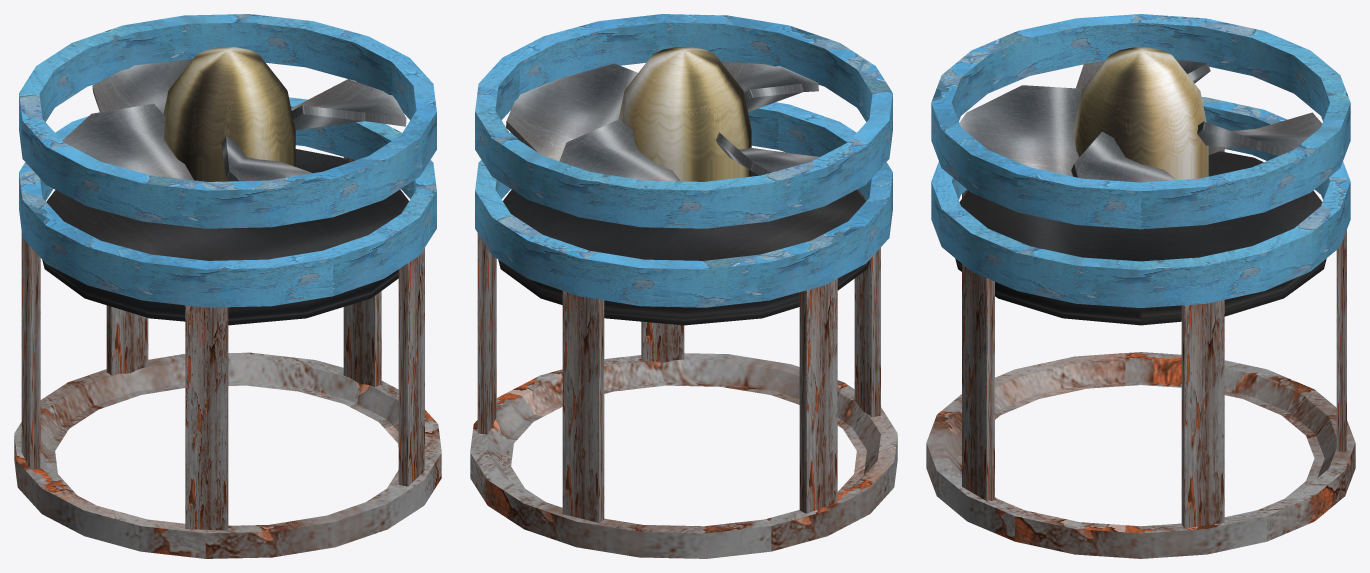
File: static.fbx
The picture shows the model from 3 angles, left to right: view 1: azimuth 30°, elevation 25°; view 2: azimuth 150°, elevation 25°; view 3: azimuth 270°, elevation 25°; orthographic projection.
Visible parts, largest first — view 1: Tube, Disc, Tube_2, Cylinder, Cylinder_2, Cube_4, Cube_3, Subdivision_Surface_4, Cube_5, Subdivision_Surface_2, Subdivision_Surface, Cube_2 (+2 smaller); view 2: Tube, Disc, Tube_2, Cylinder, Cylinder_2, Cube, Cube_5, Subdivision_Surface_2, Cube_4, Subdivision_Surface, Cube_2, Subdivision_Surface_3 (+2 smaller); view 3: Tube, Disc, Tube_2, Cylinder, Cylinder_2, Cube_2, Subdivision_Surface_3, Cube_3, Subdivision_Surface, Subdivision_Surface_2, Cube, Subdivision_Surface_4.
Boxes of the visible parts, x1=… form: Tube: x1=19, y1=14, x2=436, y2=228; Disc: x1=14, y1=352, x2=441, y2=558; Tube_2: x1=19, y1=97, x2=436, y2=307; Cylinder: x1=42, y1=149, x2=408, y2=325; Cylinder_2: x1=163, y1=47, x2=295, y2=181; Cube_4: x1=185, y1=305, x2=228, y2=530; Cube_3: x1=398, y1=248, x2=424, y2=486; Subdivision_Surface_4: x1=62, y1=103, x2=193, y2=180; Cube_5: x1=21, y1=232, x2=40, y2=469; Subdivision_Surface_2: x1=291, y1=79, x2=406, y2=130; Subdivision_Surface: x1=92, y1=59, x2=192, y2=113; Cube_2: x1=343, y1=157, x2=381, y2=387; Tube: x1=475, y1=14, x2=892, y2=228; Disc: x1=470, y1=353, x2=897, y2=558; Tube_2: x1=475, y1=102, x2=892, y2=307; Cylinder: x1=498, y1=171, x2=869, y2=325; Cylinder_2: x1=618, y1=47, x2=751, y2=181; Cube: x1=562, y1=291, x2=604, y2=522; Cube_5: x1=799, y1=278, x2=837, y2=513; Subdivision_Surface_2: x1=506, y1=63, x2=637, y2=161; Cube_4: x1=854, y1=189, x2=880, y2=417; Subdivision_Surface: x1=559, y1=119, x2=680, y2=181; Cube_2: x1=477, y1=233, x2=496, y2=434; Subdivision_Surface_3: x1=721, y1=61, x2=818, y2=111; Tube: x1=931, y1=14, x2=1350, y2=229; Disc: x1=926, y1=352, x2=1355, y2=558; Tube_2: x1=931, y1=97, x2=1350, y2=307; Cylinder: x1=955, y1=151, x2=1326, y2=325; Cylinder_2: x1=1073, y1=47, x2=1208, y2=179; Cube_2: x1=1181, y1=300, x2=1224, y2=528; Subdivision_Surface_3: x1=959, y1=85, x2=1080, y2=176; Cube_3: x1=962, y1=264, x2=994, y2=500; Subdivision_Surface: x1=1197, y1=112, x2=1322, y2=155; Subdivision_Surface_2: x1=1071, y1=131, x2=1176, y2=182; Cube: x1=1336, y1=230, x2=1346, y2=451; Subdivision_Surface_4: x1=1076, y1=59, x2=1210, y2=94.
Size of the model in its own units: 70.17 by 75.15 by 70.17.
Materials: 5 (5 with a texture image).
